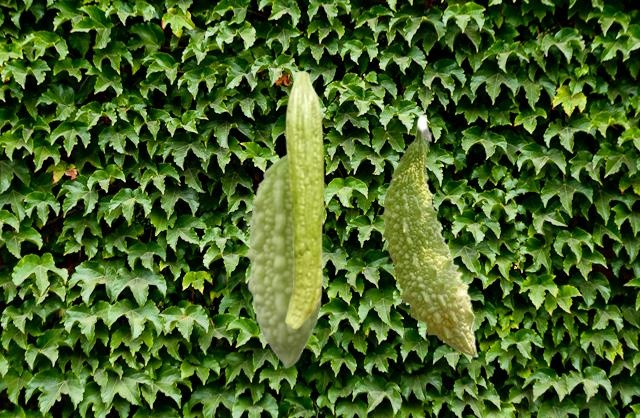ampalaya: (377, 114, 480, 358), (245, 154, 323, 368), (283, 68, 326, 329)
